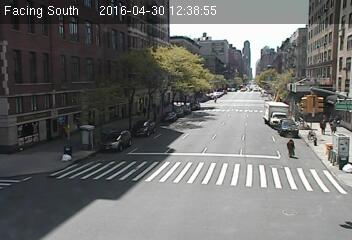neg: (199, 140, 213, 159), (139, 137, 152, 155), (228, 84, 238, 97), (188, 95, 196, 105)
pos: (283, 136, 300, 159), (316, 116, 329, 134), (329, 117, 340, 133)
